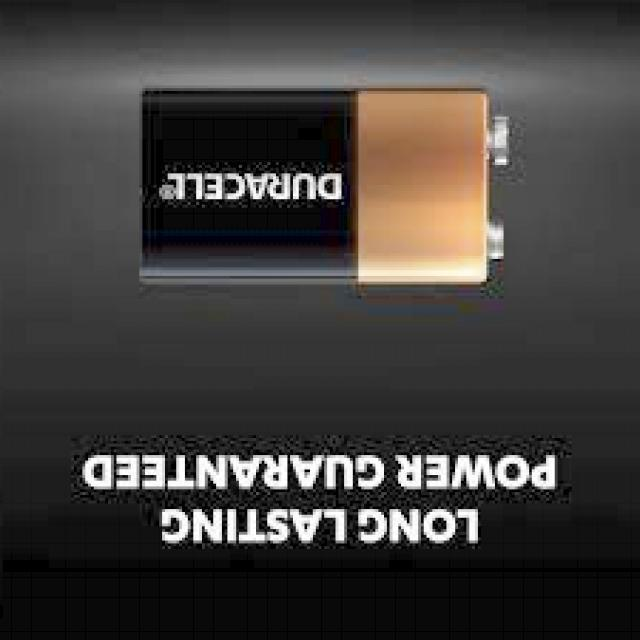battery: (140, 90, 507, 284)
